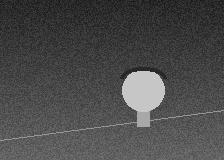no_helmet: (122, 67, 164, 116)
